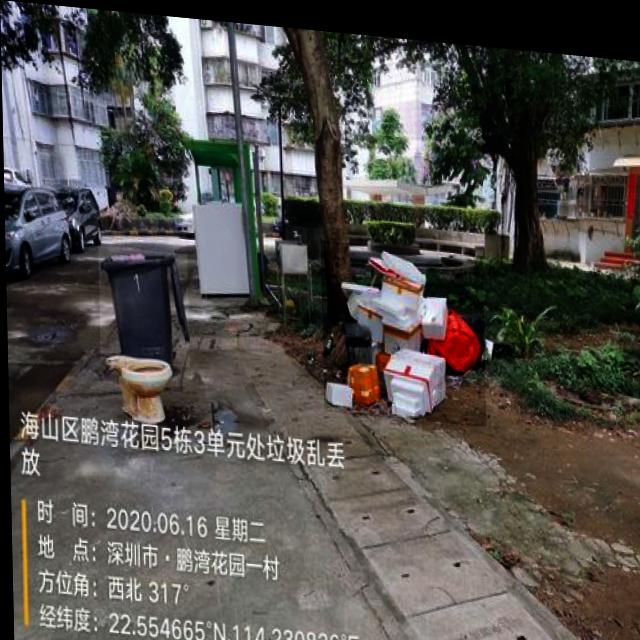garbage: (320, 234, 485, 417)
garbage_bin: (97, 244, 188, 364)
